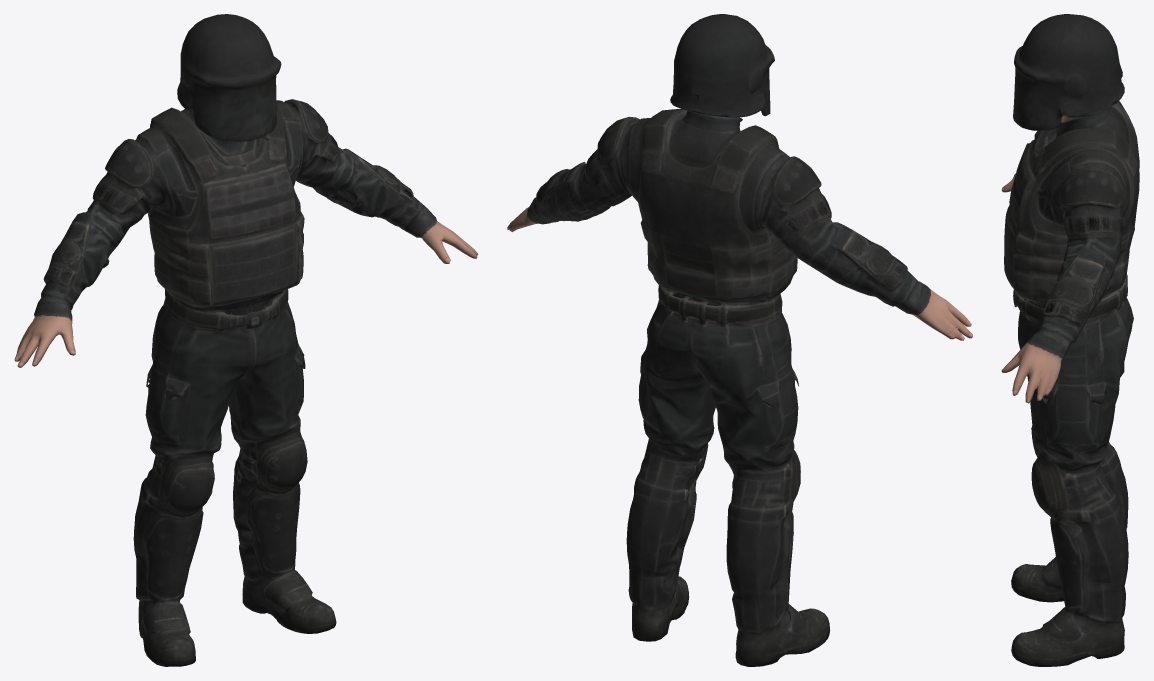
The model's file is sol_shield.glb.
3 views of the same model, side by side, from view 1: azimuth 30°, elevation 25°; view 2: azimuth 150°, elevation 25°; view 3: azimuth 270°, elevation 25° (orthographic).
Bounding box in the file's own units: 0.7578 × 0.9646 × 0.1991.
Materials: 1 (1 with a texture image).
